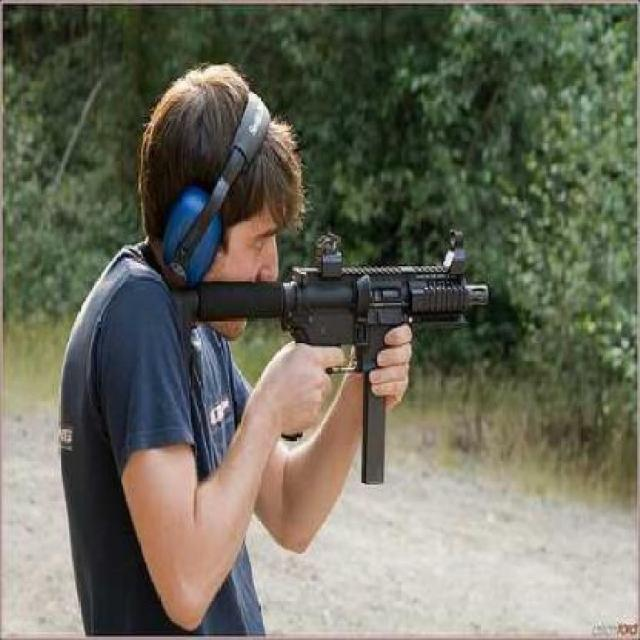weapon: (167, 250, 487, 393)
